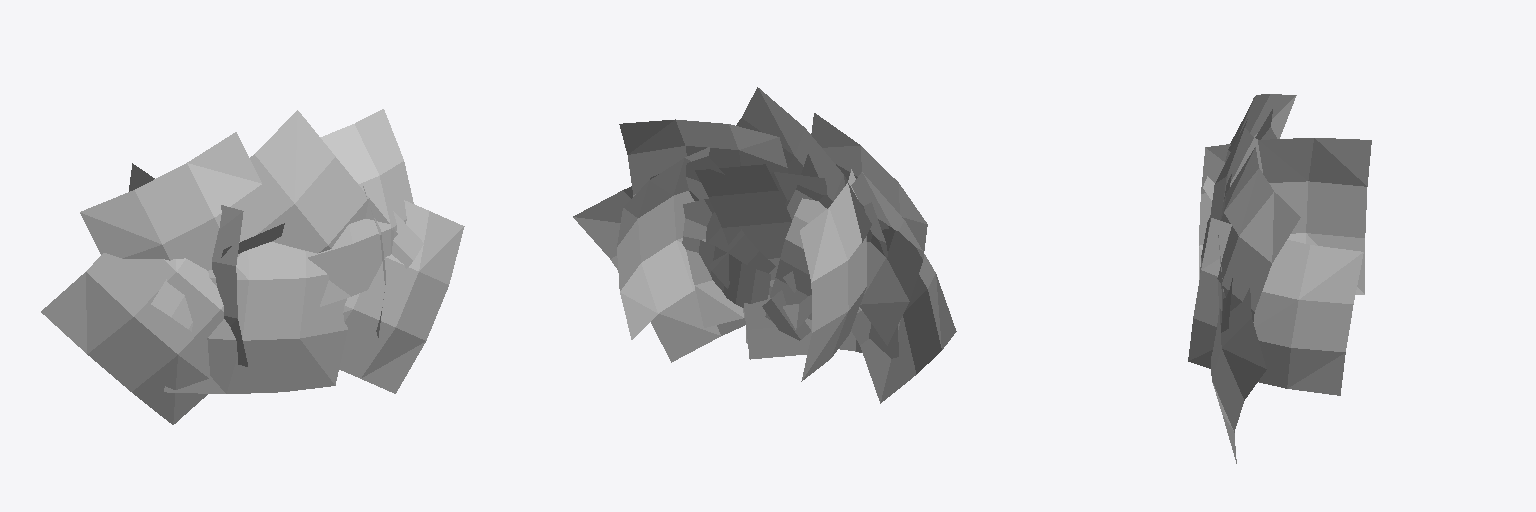
Rendered from bushes02_03_snow.obj.
3 renders of one model, left to right at view 1: azimuth 30°, elevation 25°; view 2: azimuth 150°, elevation 25°; view 3: azimuth 270°, elevation 25°, orthographic.
Visible parts, largest first — view 1: bushes02_03_snow; view 2: bushes02_03_snow; view 3: bushes02_03_snow.
Part boxes in pixels (bbox=[...]): bushes02_03_snow: bbox=[41, 109, 464, 424]; bushes02_03_snow: bbox=[573, 87, 956, 403]; bushes02_03_snow: bbox=[1188, 94, 1371, 463].
Bounding box in the file's own units: 272 × 195 × 107.